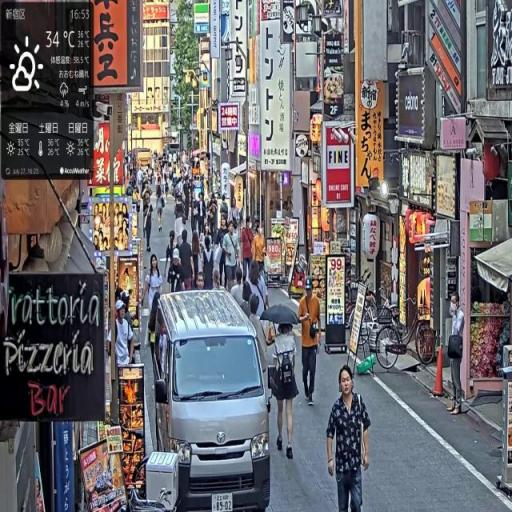person: (326, 365, 373, 511), (267, 316, 301, 460), (299, 273, 324, 408), (447, 293, 468, 419), (167, 232, 184, 295), (180, 229, 195, 295), (241, 217, 255, 284), (156, 176, 168, 234), (145, 193, 156, 254)
